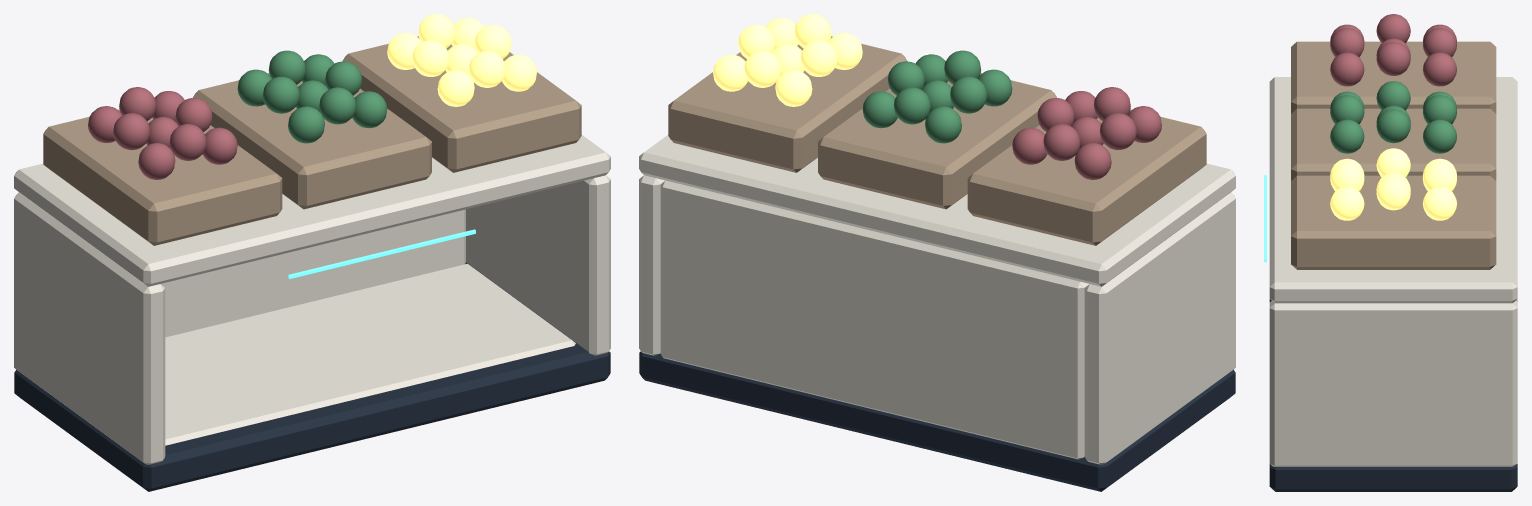
The model's file is retail_07.glb.
3 views of the same model, side by side, from view 1: azimuth 30°, elevation 25°; view 2: azimuth 150°, elevation 25°; view 3: azimuth 270°, elevation 25° (orthographic). The views are drawn at different scales.
Visible parts, largest first — view 1: Side (×2), ProduceBin (×3), Bottom, Fruit (×27), Top, Base, Back, StatusLight; view 2: Back, ProduceBin (×3), Side (×2), Fruit (×27), Top, Base; view 3: Side, ProduceBin (×3), Top, Fruit (×18), Base.
Boxes of the visible parts, x1,y1,x2,y2 form: Side (×2): (14,175,610,464); ProduceBin (×3): (43,36,581,245); Bottom: (165,264,575,445); Fruit (×27): (88,14,536,179); Top: (14,135,610,286); Base: (14,262,610,491); Back: (160,209,465,337); StatusLight: (288,229,475,279); Back: (660,180,1089,459); ProduceBin (×3): (668,36,1206,245); Side (×2): (639,175,1235,464); Fruit (×27): (713,14,1161,179); Top: (639,135,1235,286); Base: (639,351,1235,491); Side: (1269,301,1517,466); ProduceBin (×3): (1291,41,1496,269); Top: (1269,77,1517,303); Fruit (×18): (1330,14,1456,220); Base: (1269,299,1517,491).
Bounding box in the file's own units: 1.5 × 0.977 × 0.766.
